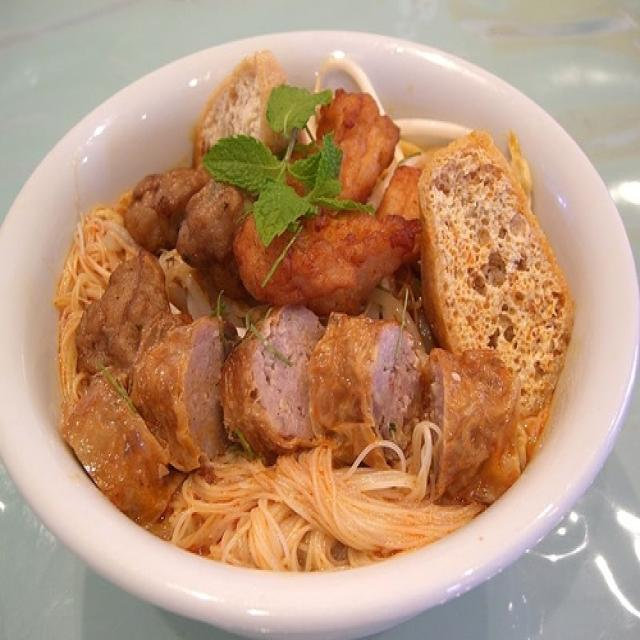面条主食: (18, 26, 613, 594)
